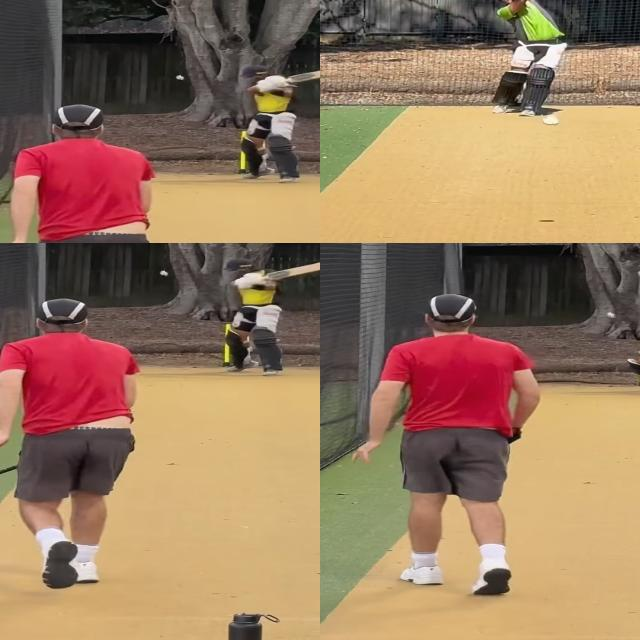Cricket ball: (537, 112, 565, 128), (605, 310, 617, 318), (159, 269, 169, 277), (175, 74, 185, 80)
